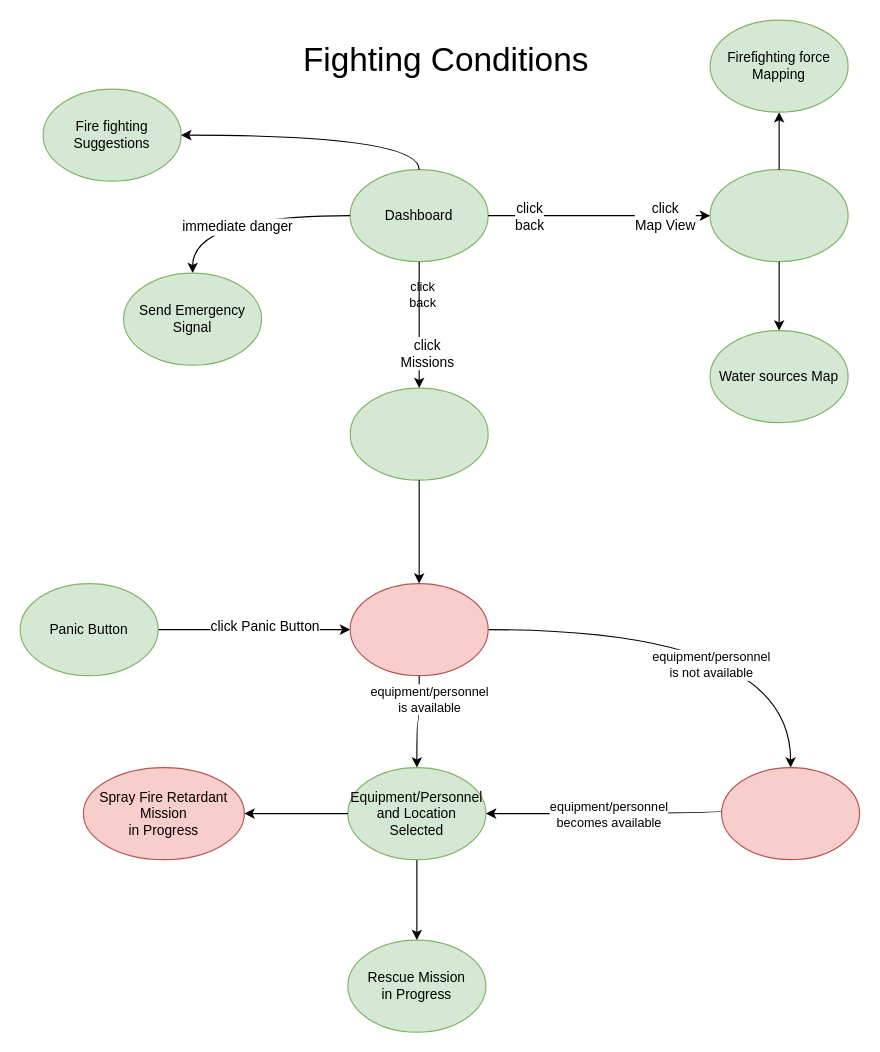
Some shapes in this 880 by 1052 pixel diagram are drawn without their labels. Here are the shapes that lost their labels. From the top down, the box of each, then its label:
(709, 168, 848, 262): View Map Screen
(349, 387, 488, 480): Missions Screen
(349, 582, 488, 676): Identify Best Deployment Location
(720, 766, 860, 860): Cancel Scheduled Mission
